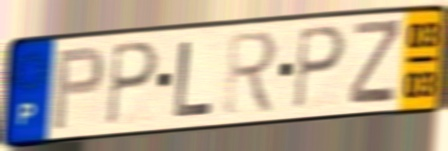L: (172, 37, 217, 120)
P: (50, 43, 107, 134), (292, 24, 348, 114), (105, 40, 161, 129)
R: (222, 28, 280, 117)
Z: (346, 16, 404, 106)
